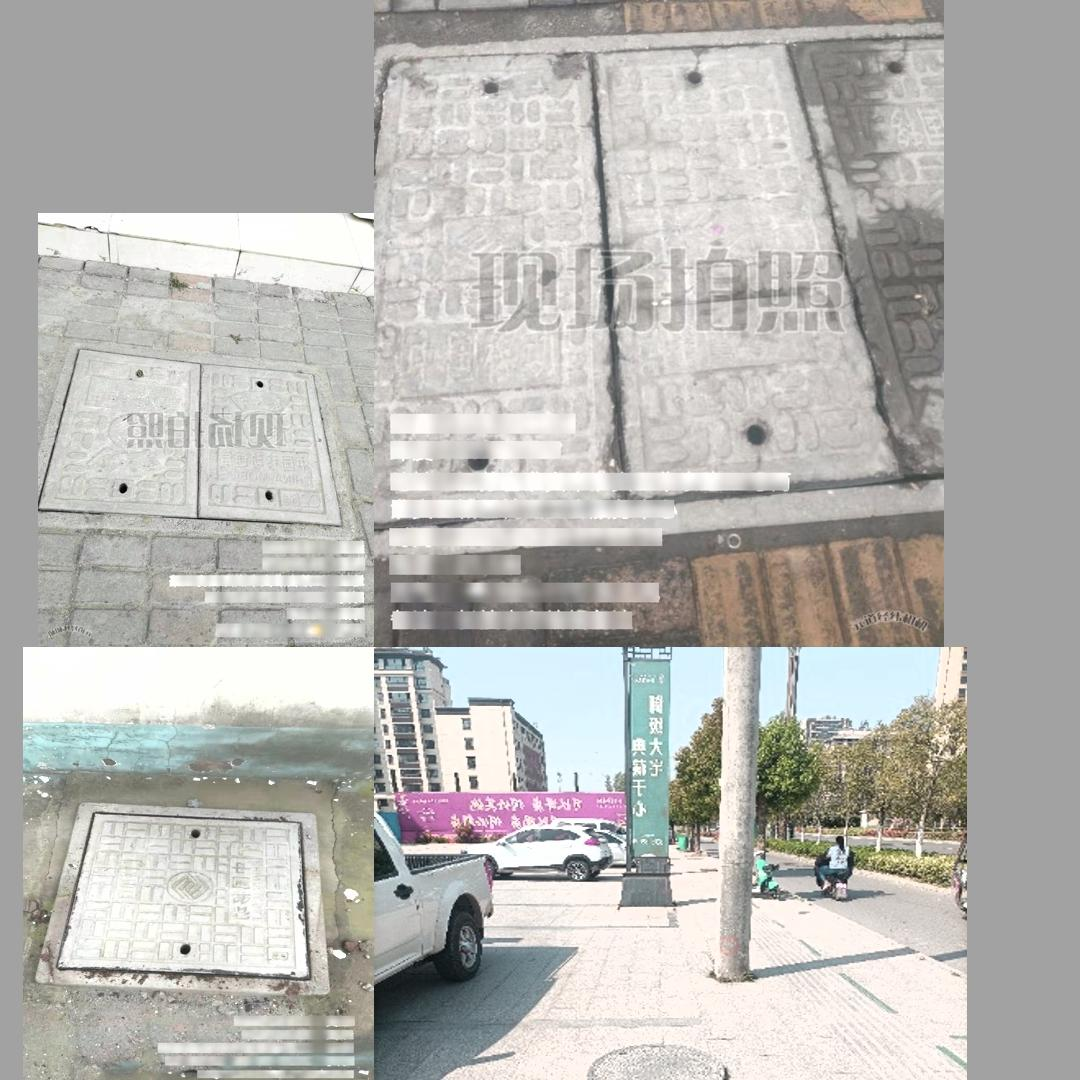good: (377, 23, 941, 510), (38, 342, 345, 538), (36, 800, 331, 994), (588, 1042, 726, 1080)
